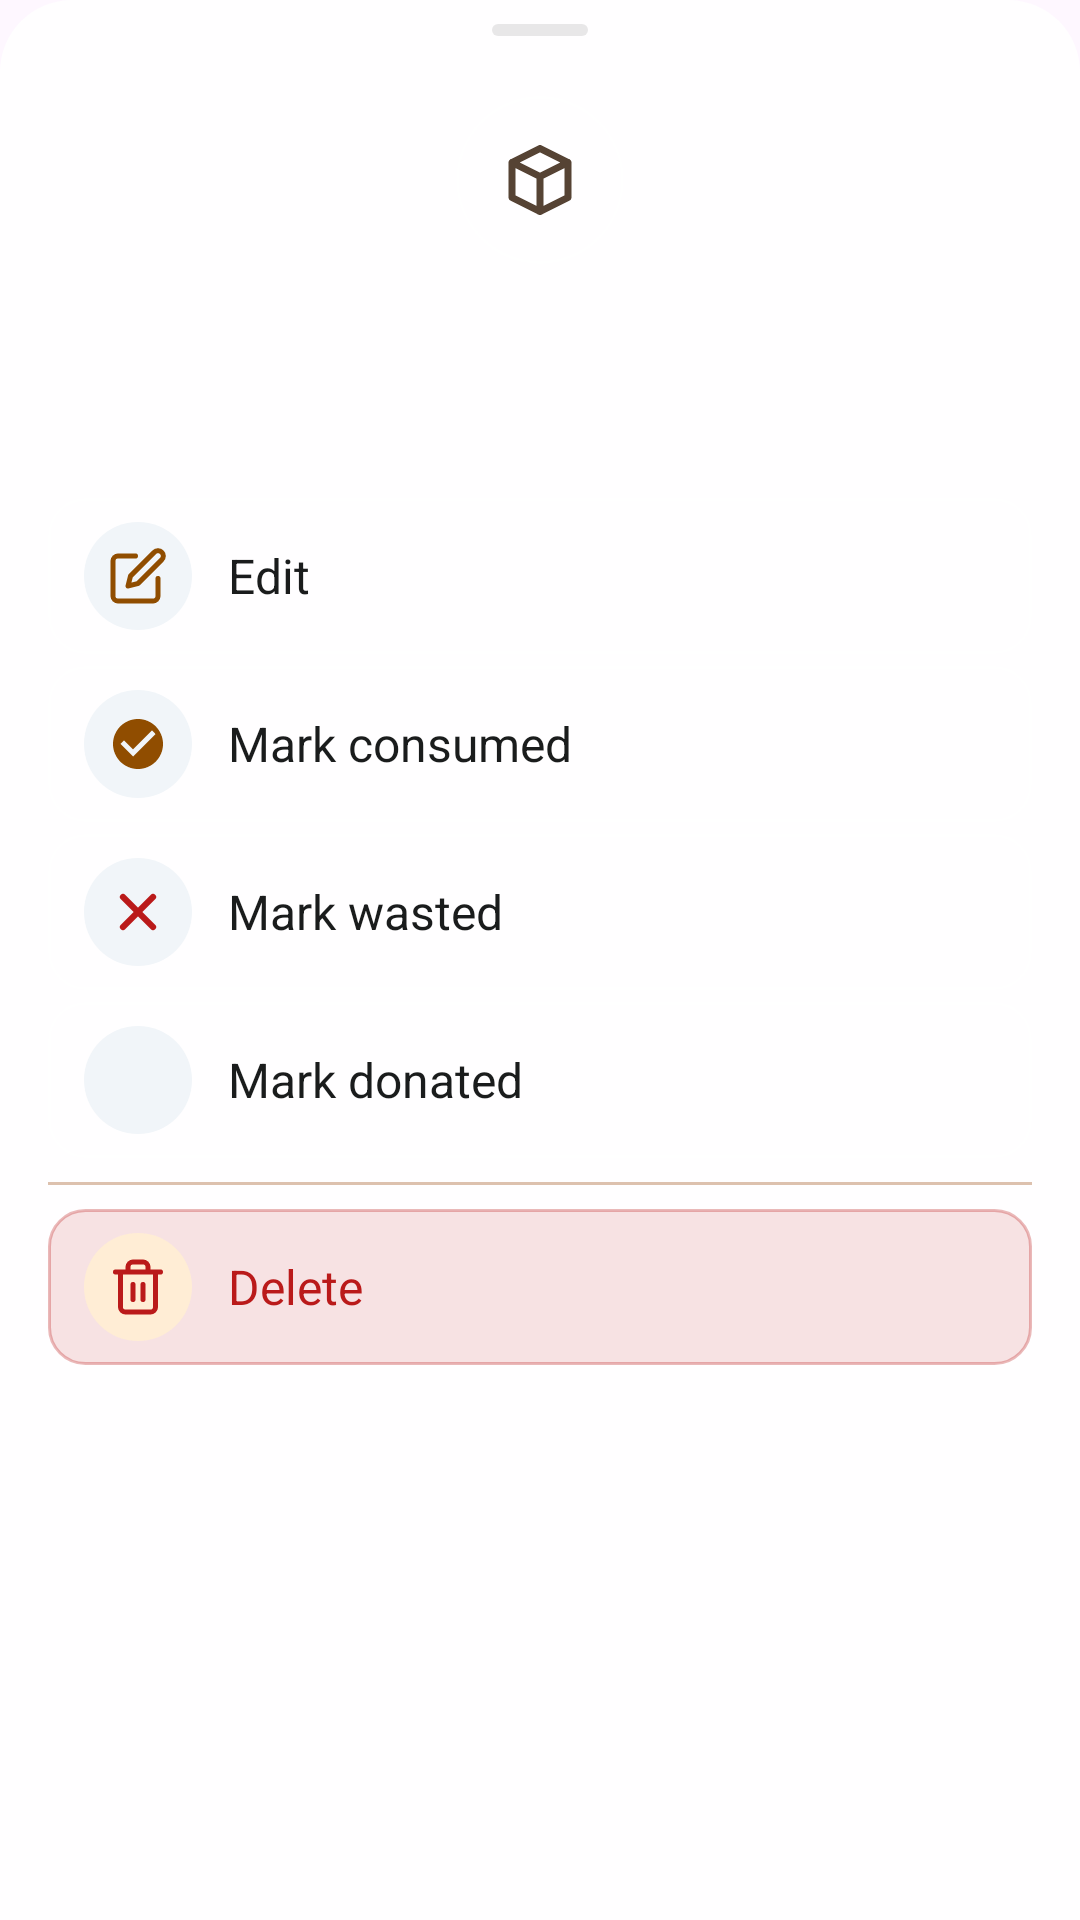

Where icons sit on this 1080px x 1920px app screen, as region(x1, y1, x2, y2):
check circle: region(113, 719, 163, 769)
close: region(119, 893, 157, 931)
items: region(508, 145, 572, 215)
